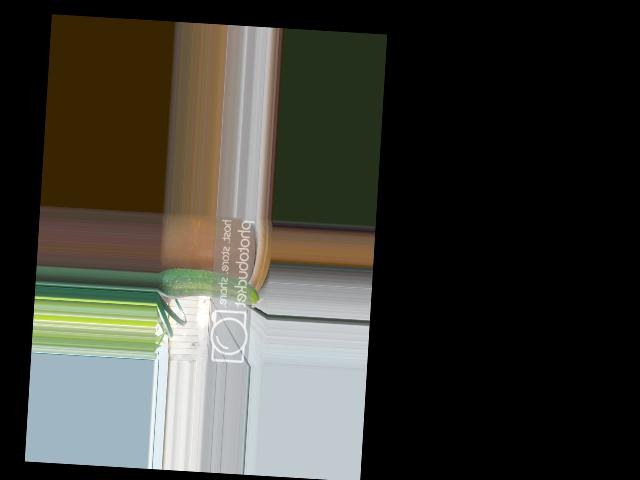cucumber: (157, 267, 265, 305)
